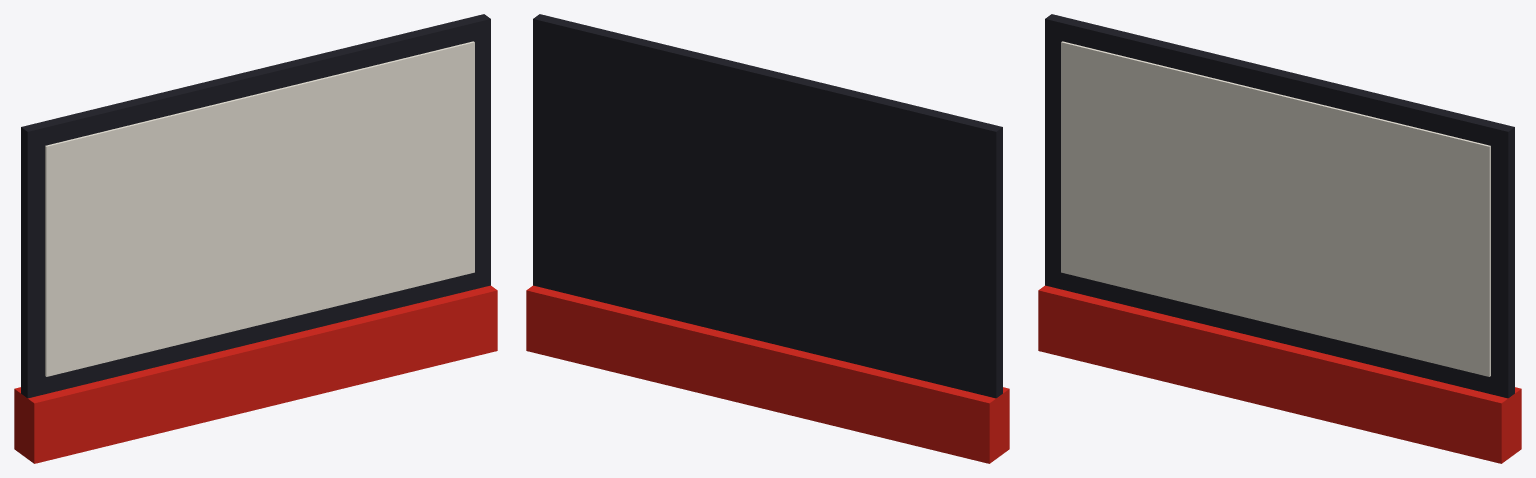
Rendered from cinema_screen.fbx.
3 views of the same model, side by side, from view 1: azimuth 30°, elevation 25°; view 2: azimuth 150°, elevation 25°; view 3: azimuth 330°, elevation 25° (orthographic).
Visible parts, largest first — view 1: cinema_screen; view 2: cinema_screen; view 3: cinema_screen.
Part boxes in pixels (<box>): cinema_screen: <box>14,14,497,463</box>; cinema_screen: <box>526,14,1009,463</box>; cinema_screen: <box>1038,14,1521,463</box>.
Bounding box in the file's own units: 4 × 2.7 × 0.3.
